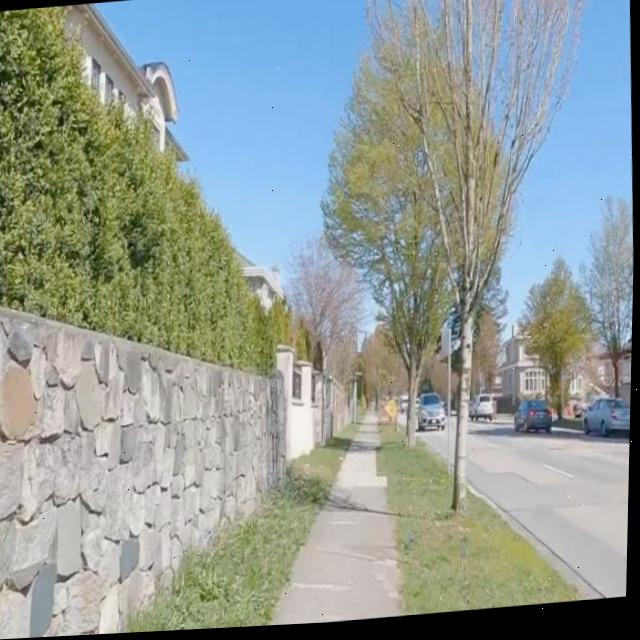Automobile: (584, 404, 632, 440), (516, 405, 553, 437), (419, 397, 446, 433), (472, 399, 495, 426)
Obstacle: (0, 306, 288, 640), (401, 0, 580, 515), (118, 452, 340, 635), (380, 431, 589, 620), (278, 348, 316, 462)
Road: (470, 423, 632, 606), (421, 423, 454, 465)
Sidewalk: (272, 428, 405, 628)
